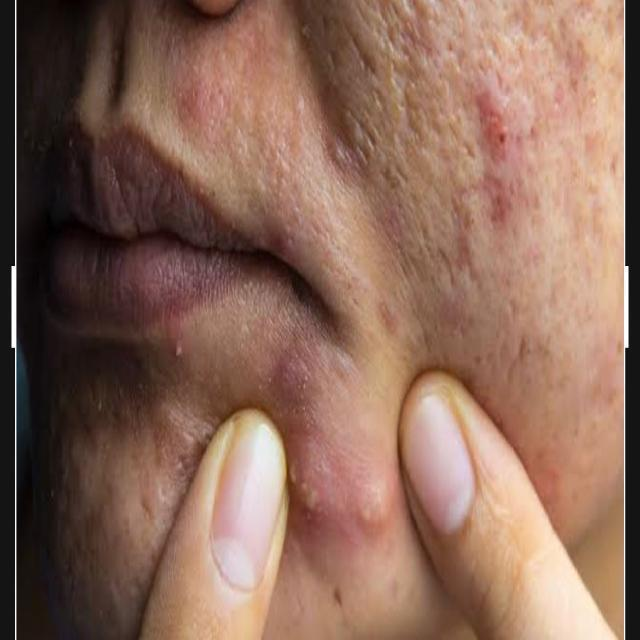nodule: (285, 437, 395, 543)
papule: (469, 57, 573, 185)
